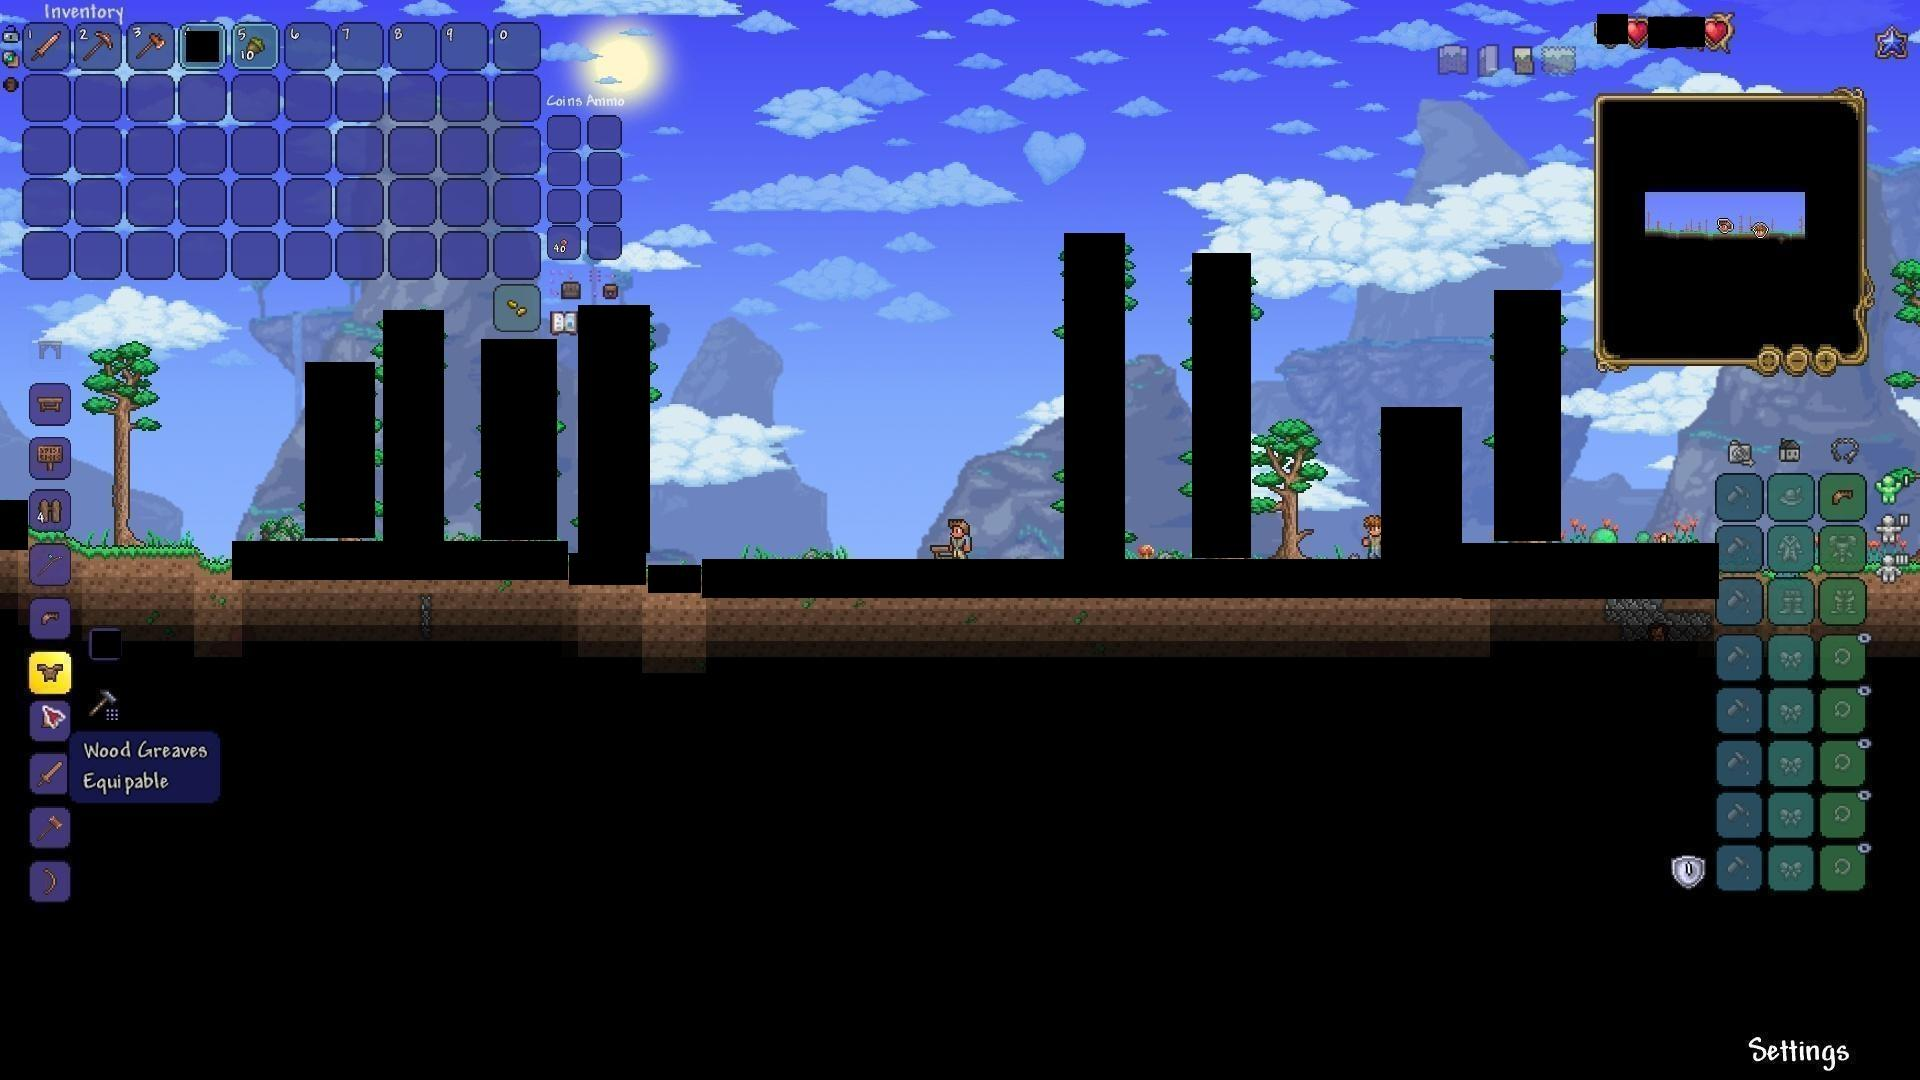breastplate: (36, 662, 65, 683)
dirt: (74, 541, 232, 579)
heart: (1625, 17, 1652, 46), (1704, 18, 1730, 47)
helmet: (36, 604, 66, 632), (1828, 483, 1858, 509)
slime: (1592, 525, 1618, 549)
tree: (95, 326, 156, 537), (1265, 413, 1320, 555)
workbench: (30, 393, 67, 418), (927, 542, 959, 567)
